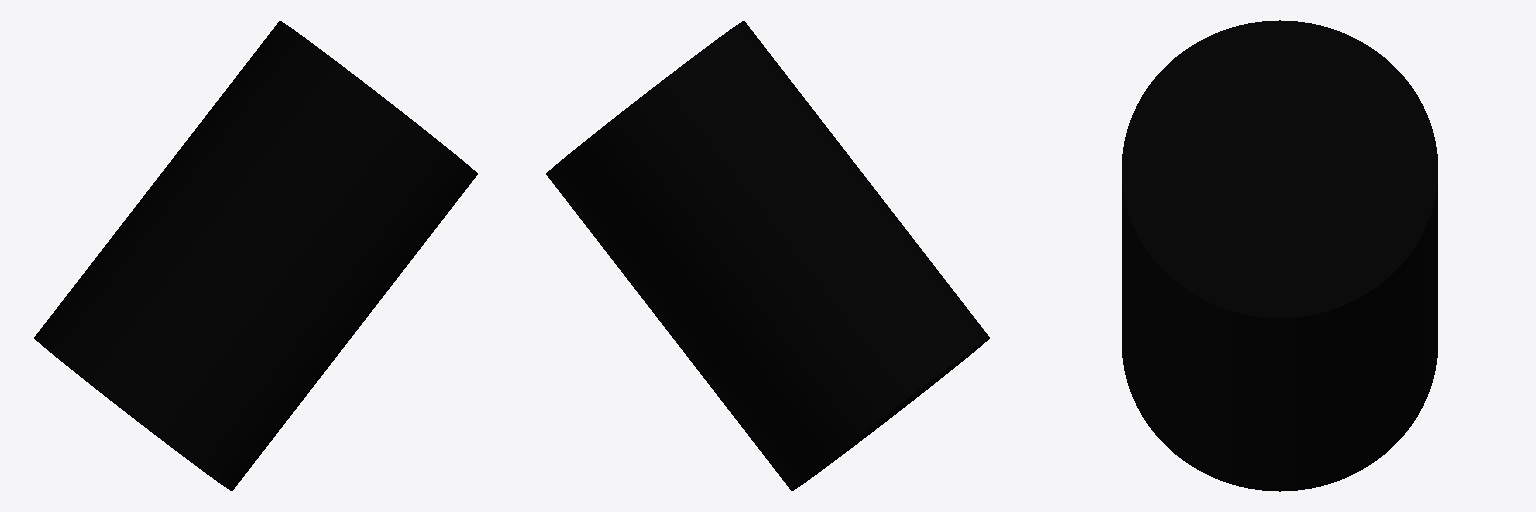
The robot description file, URDF, robot "luxtac_cylinder_deg45":
<?xml version="1.0"?>
<!-- cylinder, long axis at 45 deg in the pad plane.
     Generated by scripts/make_luxtac_objs.py. Metres, centred on x,y, cross-section
     centre at z = 0.0452 (the pad centre once staged). Long axis at 45 deg in
     the x-z plane: 0 = along the finger, 90 = across it. Length 40mm,
     mass 1.500000 kg.

     The link is named 'cube' because TacSL resolves the indenter link by name. -->
<robot name="luxtac_cylinder_deg45">
    <link name="cube">
        <visual>
            <geometry><mesh filename="../mesh/luxtac_cylinder_deg45.obj"/></geometry>
            <material name="black"><color rgba="0.05 0.05 0.05 1"/></material>
        </visual>
        <collision>
            <geometry><mesh filename="../mesh/luxtac_cylinder_deg45.obj"/></geometry>
            <sdf resolution="256"/>  <!-- 0.180mm voxels -->
        </collision>
        <inertial>
            <origin rpy="0 0 0" xyz="0 0 0.0452"/>
            <mass value="1.500000"/>
            <inertia ixx="1.878279e-04" ixy="0" ixz="0" iyy="2.585519e-04" iyz="0" izz="1.878279e-04"/>
        </inertial>
    </link>
</robot>

--- What the picture shows (computed from the rendered views, not written in the file) ---
The picture shows the robot from 3 angles, left to right: view 1: azimuth 30°, elevation 25°; view 2: azimuth 150°, elevation 25°; view 3: azimuth 270°, elevation 25°; orthographic projection.
Robot: luxtac_cylinder_deg45 — 1 links, 0 joints (none); root link cube; default pose: all joints at 0.
Visible links, largest first — view 1: cube; view 2: cube; view 3: cube.
Link boxes in pixels (<box>): cube: <box>34,21,477,490</box>; cube: <box>546,21,989,490</box>; cube: <box>1122,20,1437,491</box>.
Bounding box of the posed robot: 0.046 × 0.025 × 0.046 m (x, y, z).
Meshes: 1 distinct files referenced, 1 mesh visuals loaded (1 OBJ).
